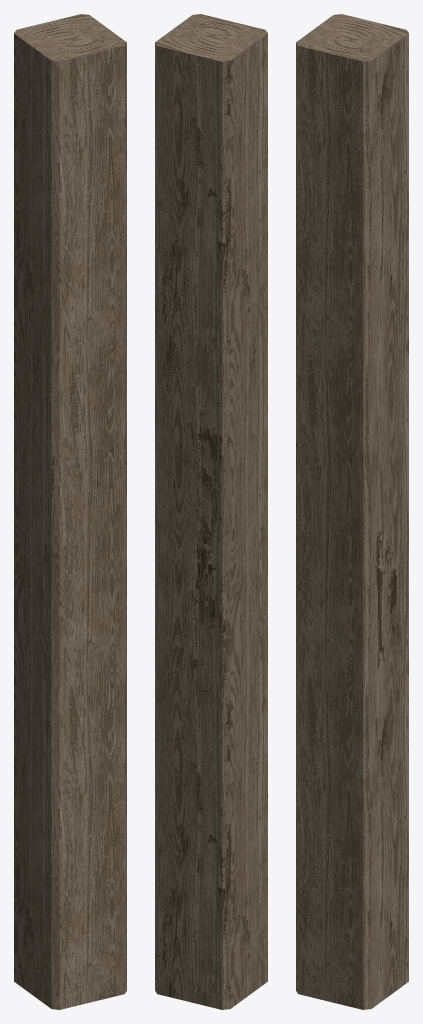
The model's file is SM_Pillar01b.fbx.
3 renders of one model, left to right at view 1: azimuth 30°, elevation 25°; view 2: azimuth 150°, elevation 25°; view 3: azimuth 330°, elevation 25°, orthographic.
Visible parts, largest first — view 1: SM_Pillar01b; view 2: SM_Pillar01b; view 3: SM_Pillar01b.
Part boxes in pixels (x1,y1,x2,y2): SM_Pillar01b: (14, 14, 126, 1009); SM_Pillar01b: (155, 14, 267, 1009); SM_Pillar01b: (296, 14, 408, 1009).
Bounding box in the file's own units: 25 × 25 × 300.
Materials: 1 (1 with a texture image).
